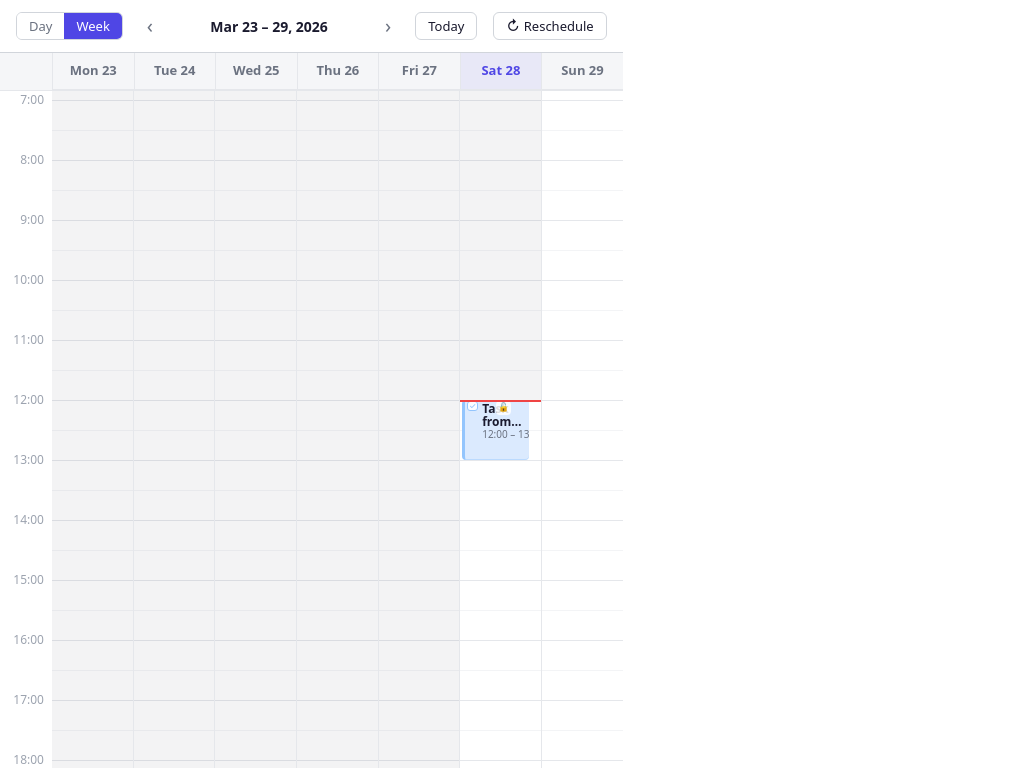
Scenario: CalendarView — chunk click editing › opens the task edit form when a chunk is clicked
(page scrolled)
Click the button with class "chunk-block" at (496, 430), box [462,400,529,460]
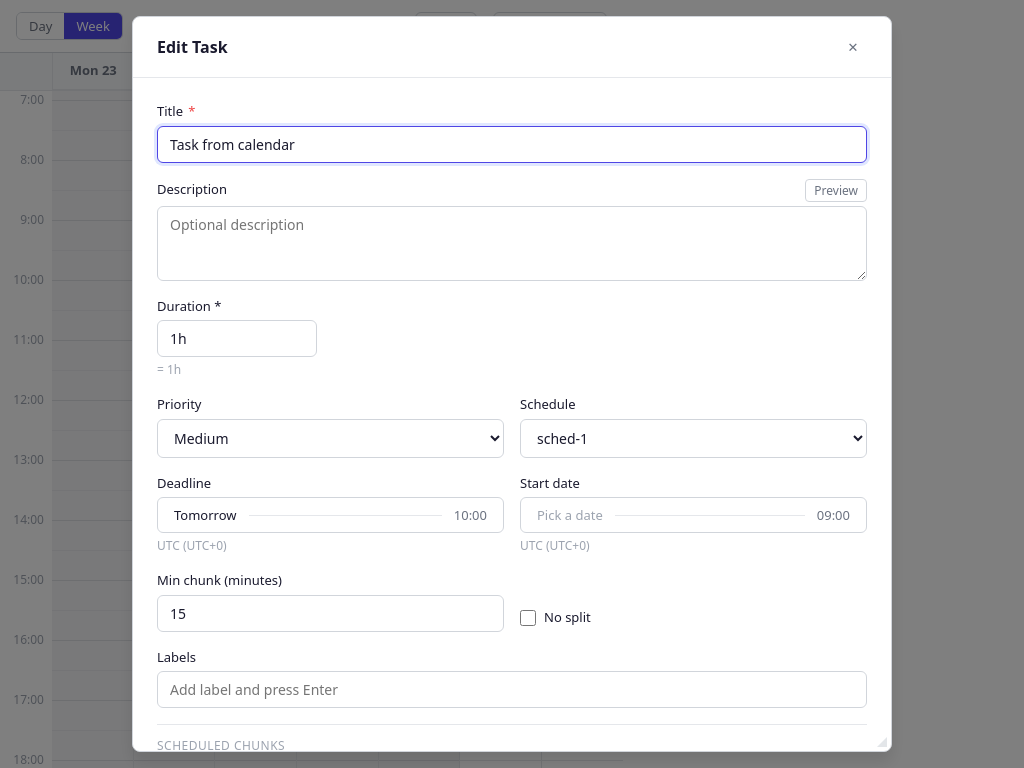
Expected: the heading "Edit Task" is shown, [157,37,228,57]
